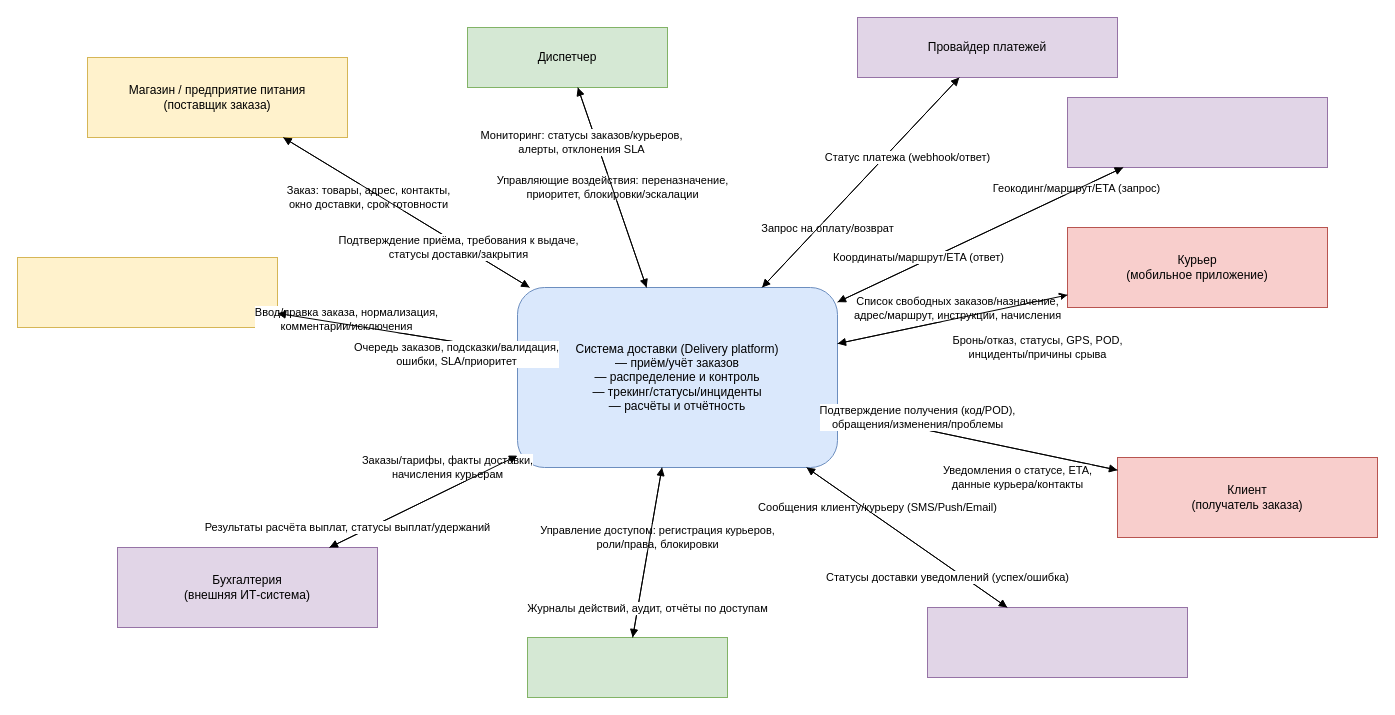
The diagram is 1395 pixels wide and 715 high, and some of its shapes have lost their labels. The shapes that lost their labels are listed below. From the top down, each one's box as (x1, y1, x2, y2) in pixels, then its label:
(1066, 96, 1328, 168): Сервис карт/геокодинга и маршрутизации
(16, 256, 278, 328): Оператор ввода заказов
(926, 606, 1188, 678): Сервис уведомлений (SMS/Push/Email)
(526, 636, 728, 698): Администратор системы
